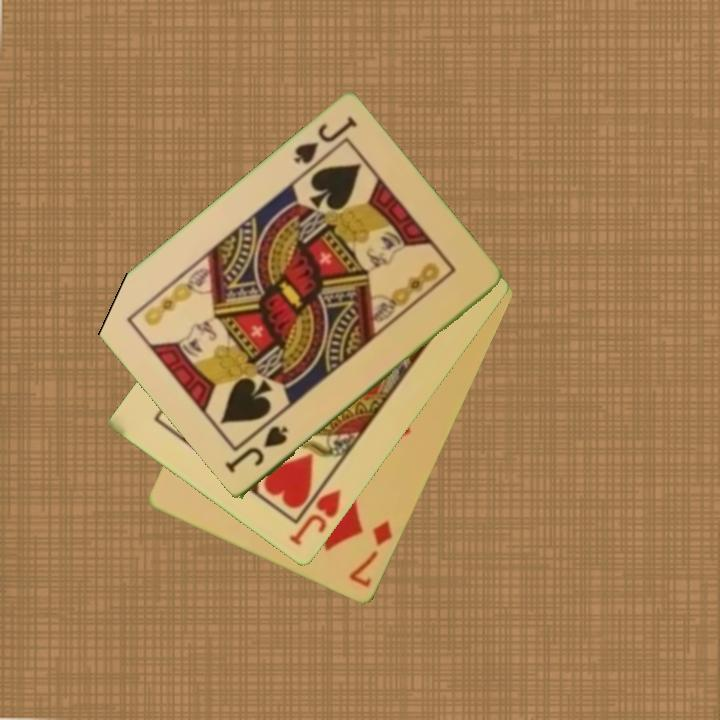7d: (345, 518, 396, 591)
Jh: (285, 486, 345, 550)
Js: (290, 113, 361, 168), (223, 423, 292, 477)
